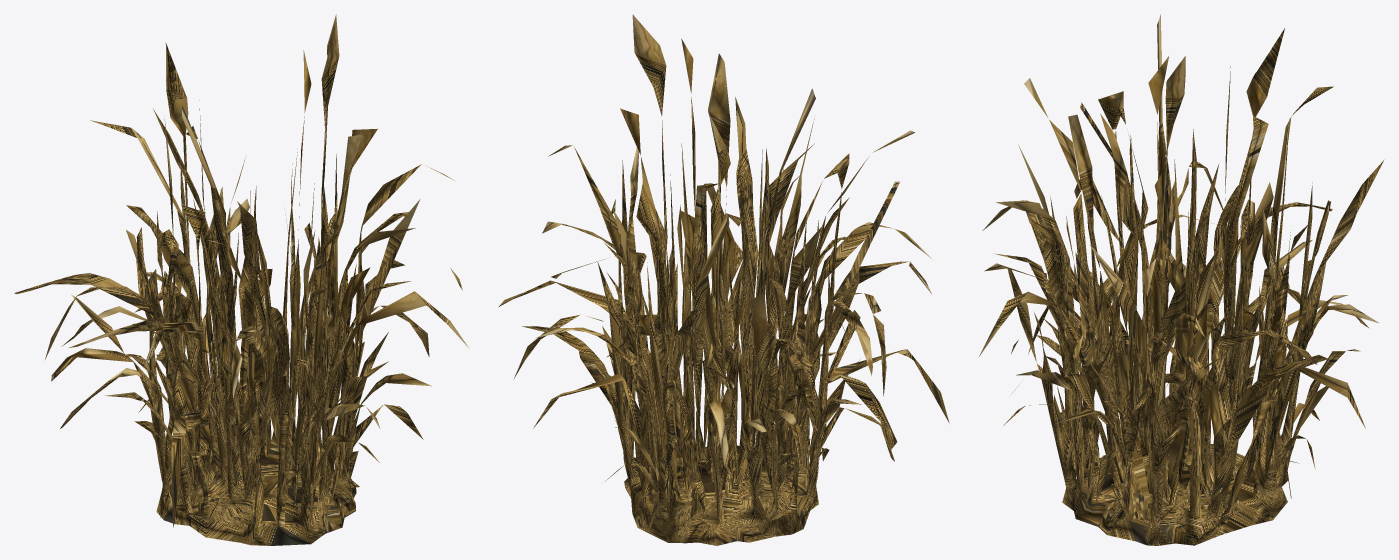
Rendered from grass.glb.
The picture shows the model from 3 angles, left to right: view 1: azimuth 30°, elevation 25°; view 2: azimuth 150°, elevation 25°; view 3: azimuth 270°, elevation 25°; orthographic projection. The views are drawn at different scales.
Visible parts, largest first — view 1: grass_golden; view 2: grass_golden; view 3: grass_golden.
Boxes of the visible parts, box(x1,y1,x2,y2) form: grass_golden: box(14, 14, 469, 545); grass_golden: box(499, 14, 949, 545); grass_golden: box(978, 14, 1384, 545).
Size of the model in its own units: 0.725 by 0.8618 by 0.6482.
1 material, 1 textured.
